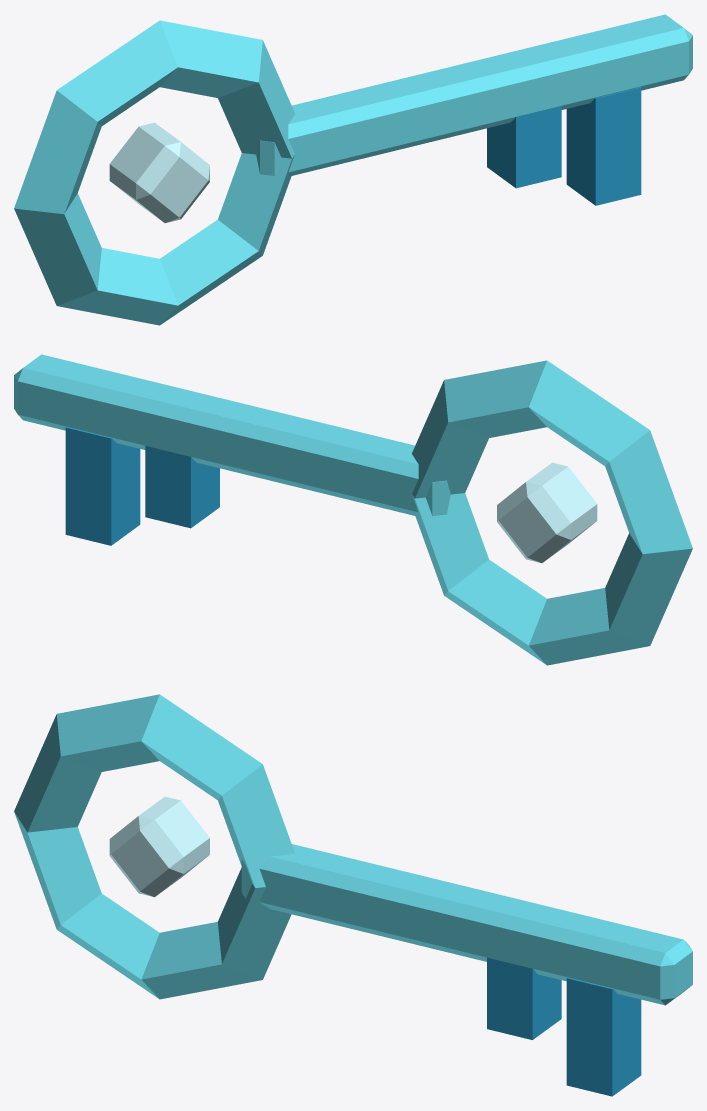
Rendered from DiamondKey.fbx.
3 views of the same model, one above another, from view 1: azimuth 30°, elevation 25°; view 2: azimuth 150°, elevation 25°; view 3: azimuth 330°, elevation 25° (orthographic).
Parts seen in each view (by area): view 1: DiamondKey; view 2: DiamondKey; view 3: DiamondKey.
Part boxes in pixels (<box>): DiamondKey: <box>14,14,692,325</box>; DiamondKey: <box>14,354,692,665</box>; DiamondKey: <box>14,694,692,1096</box>.
Size of the model in its own units: 2.94 by 1.28 by 0.3.
1 material, 1 textured.
